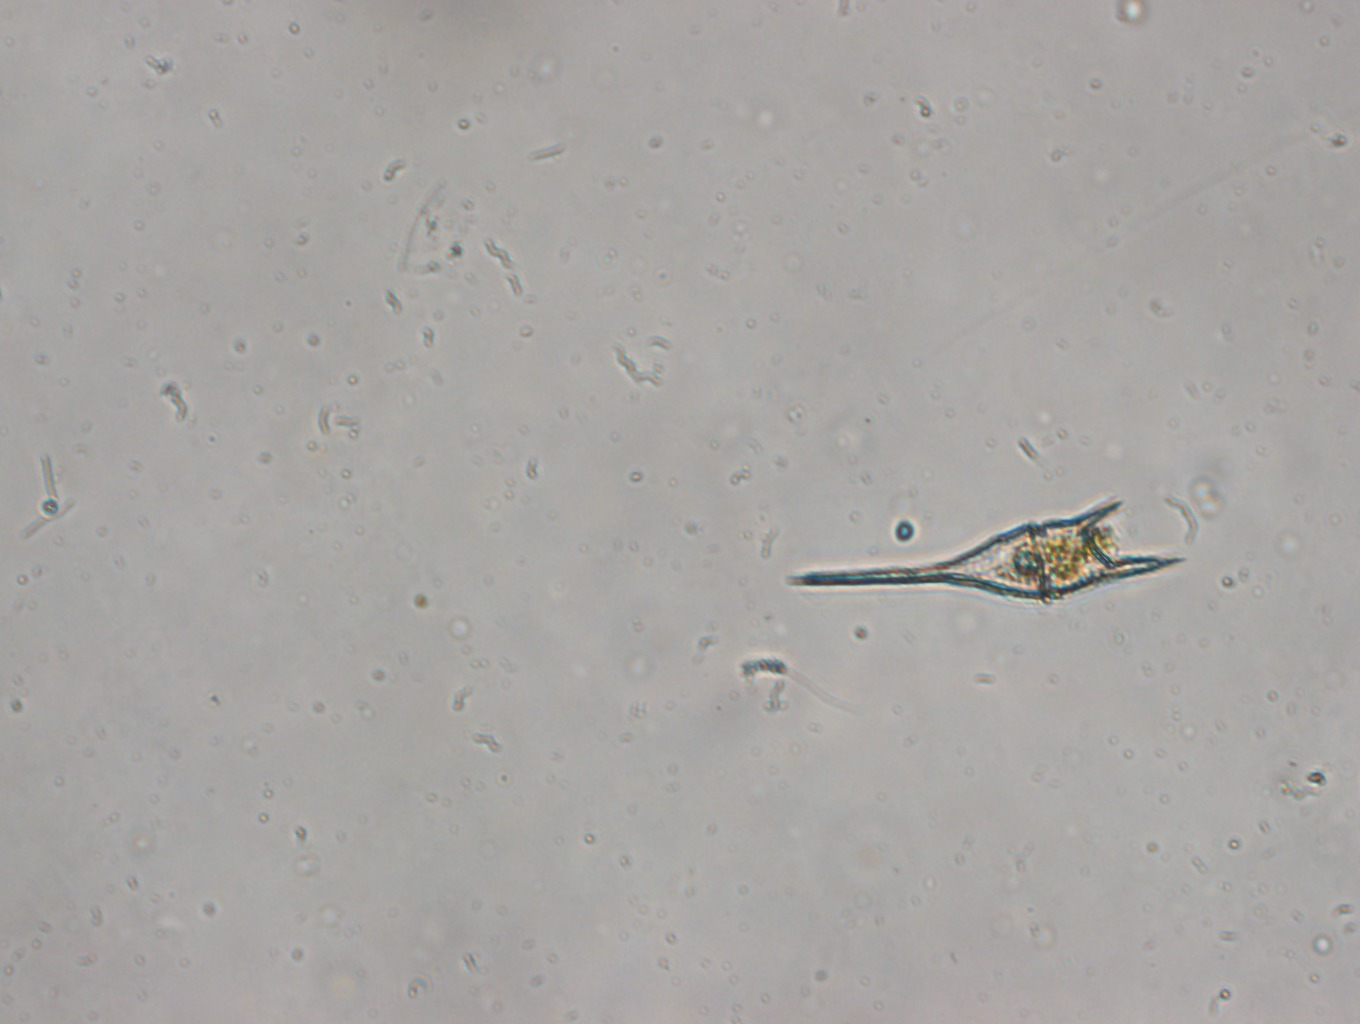ceratium furca: (781, 492, 1189, 610)
